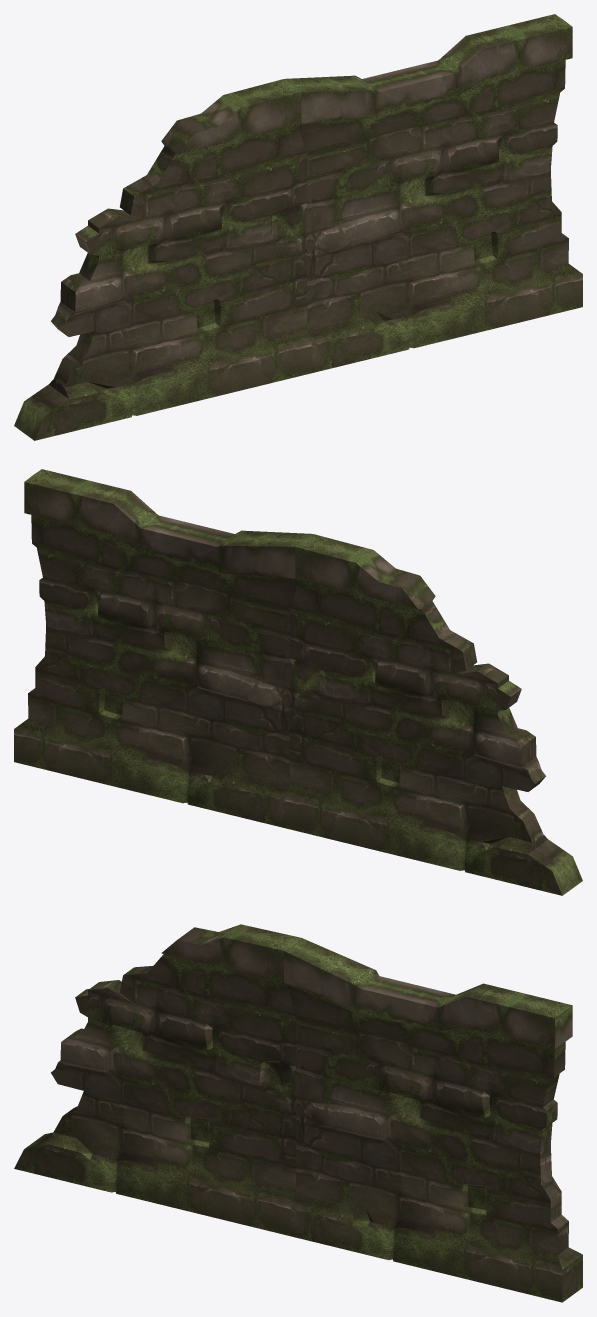
The model's file is yj_wall_2.FBX.
The picture shows the model from 3 angles, top to bottom: view 1: azimuth 30°, elevation 25°; view 2: azimuth 150°, elevation 25°; view 3: azimuth 330°, elevation 25°; orthographic projection.
Parts seen in each view (by area): view 1: yj_wall_2; view 2: yj_wall_2; view 3: yj_wall_2.
Part boxes in pixels (box(x1,y1,x2,y2)): yj_wall_2: box(14, 14, 582, 440); yj_wall_2: box(14, 469, 582, 895); yj_wall_2: box(14, 924, 582, 1302).
Bounding box in the file's own units: 98.98 × 48.72 × 6.95.
